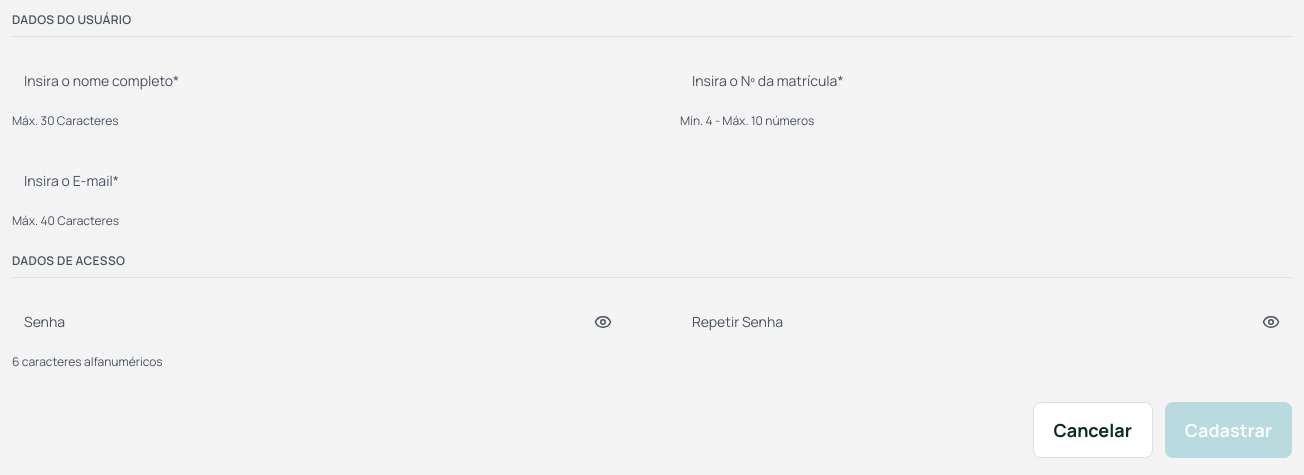
Test: UserForm (create) › rejects a name with digits as invalid input
Type "Jo4o" into the field labelled "Insira o nome completo*" at x=318, y=81, box [12, 53, 624, 109]
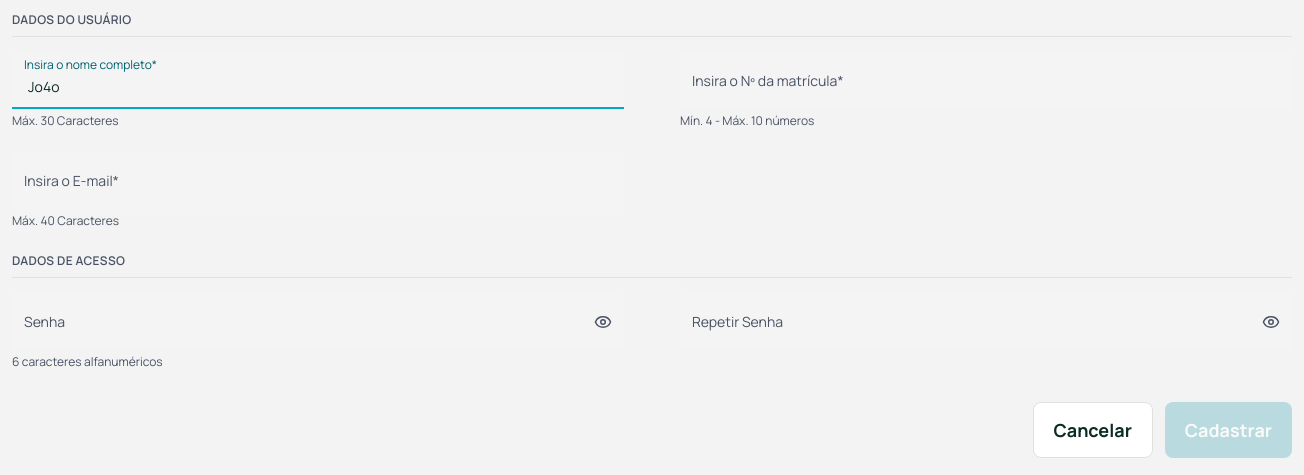
Press Tab
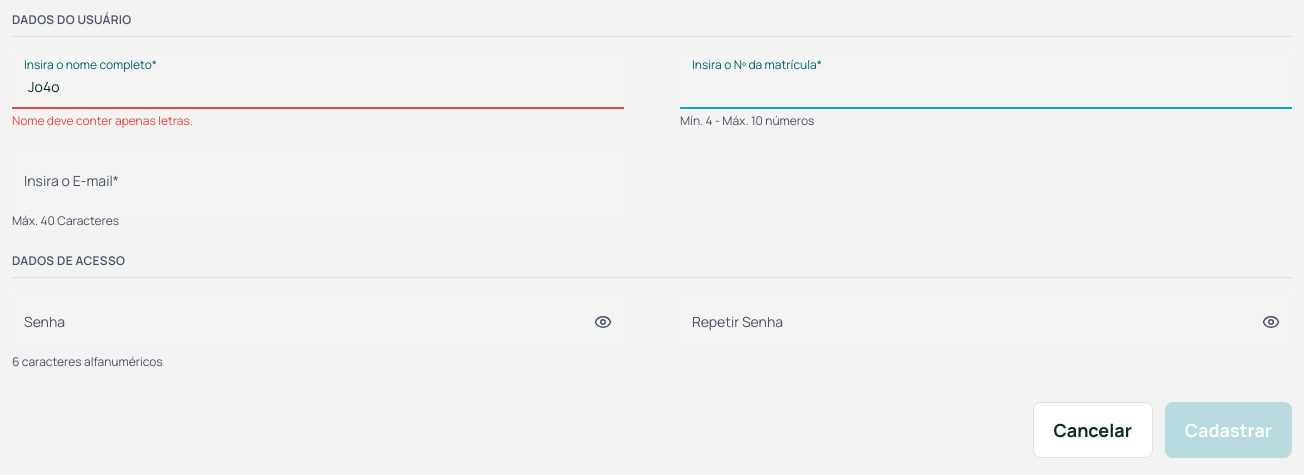
Check: the text "Nome deve conter apenas letras." is shown, box [12, 112, 193, 129]
